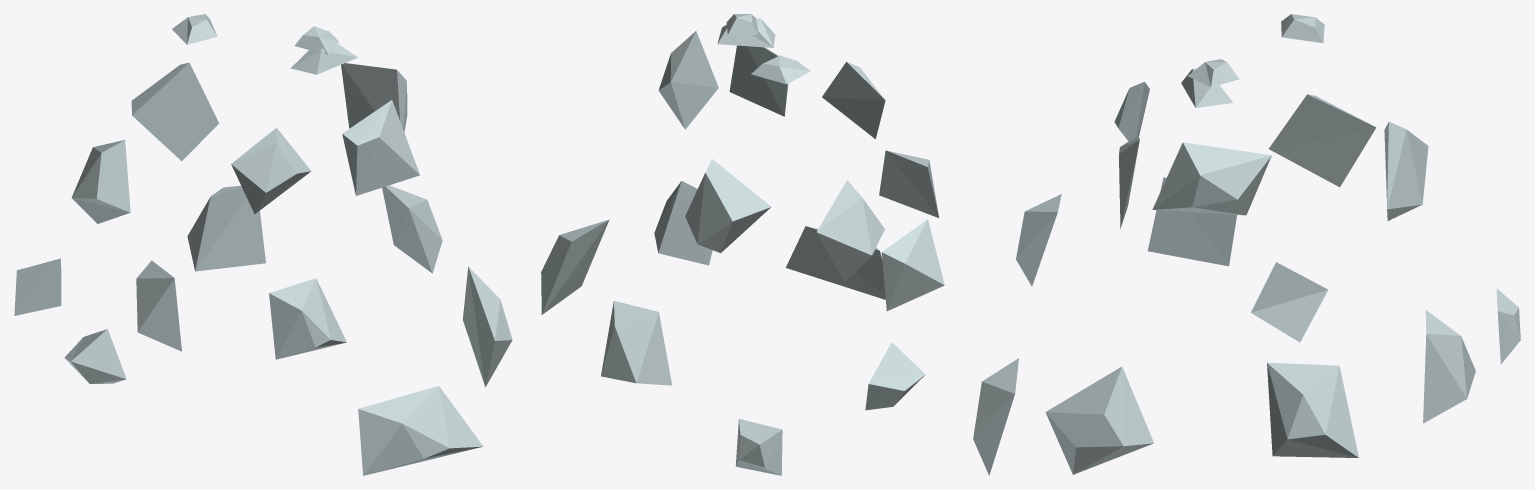
Rendered from SilverOreB.fbx.
3 renders of one model, left to right at view 1: azimuth 30°, elevation 25°; view 2: azimuth 150°, elevation 25°; view 3: azimuth 270°, elevation 25°, orthographic. The views are drawn at different scales.
Parts seen in each view (by area): view 1: SilverOreB; view 2: SilverOreB; view 3: SilverOreB.
Part boxes in pixels (x1,y1,x2,y2): SilverOreB: (14,14,512,475); SilverOreB: (541,14,944,475); SilverOreB: (973,14,1520,475).
Bounding box in the file's own units: 39.36 × 36.05 × 45.92.
